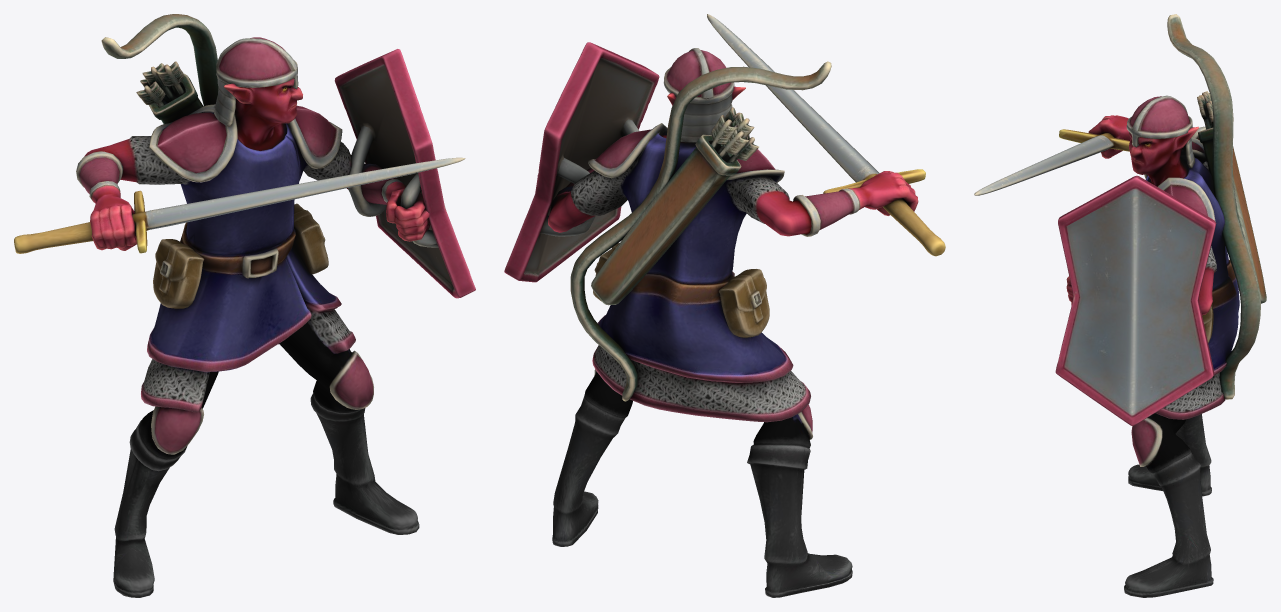
File: Hobgoblin Soldier.glb
The picture shows the model from 3 angles, left to right: view 1: azimuth 30°, elevation 25°; view 2: azimuth 150°, elevation 25°; view 3: azimuth 270°, elevation 25°; orthographic projection. The views are drawn at different scales.
Parts seen in each view (by area): view 1: body_low.001, shield_low.001, sword_low.001, helm_low.001, bow_low.001, pouch1_low.001, quiver_low.001, pouch2_low.001; view 2: body_low.001, shield_low.001, quiver_low.001, bow_low.001, sword_low.001, helm_low.001, pouch1_low.001; view 3: shield_low.001, body_low.001, bow_low.001, helm_low.001, sword_low.001, quiver_low.001.
Part boxes in pixels (x1,y1,x2,y2): body_low.001: [76, 78, 429, 597]; shield_low.001: [334, 49, 475, 298]; sword_low.001: [14, 157, 465, 253]; helm_low.001: [214, 37, 298, 126]; bow_low.001: [101, 14, 218, 106]; pouch1_low.001: [153, 239, 204, 308]; quiver_low.001: [136, 61, 203, 124]; pouch2_low.001: [293, 203, 328, 274]; body_low.001: [548, 86, 918, 597]; shield_low.001: [504, 42, 659, 282]; quiver_low.001: [591, 107, 758, 305]; bow_low.001: [570, 61, 831, 401]; sword_low.001: [707, 14, 945, 256]; helm_low.001: [663, 48, 734, 142]; pouch1_low.001: [719, 269, 769, 337]; shield_low.001: [1055, 175, 1216, 425]; body_low.001: [1066, 115, 1239, 597]; bow_low.001: [1167, 14, 1260, 399]; helm_low.001: [1126, 95, 1194, 168]; sword_low.001: [974, 129, 1129, 195]; quiver_low.001: [1197, 91, 1266, 303].
Size of the model in its own units: 5.41 by 6.29 by 3.6.
1 material, 1 textured.
